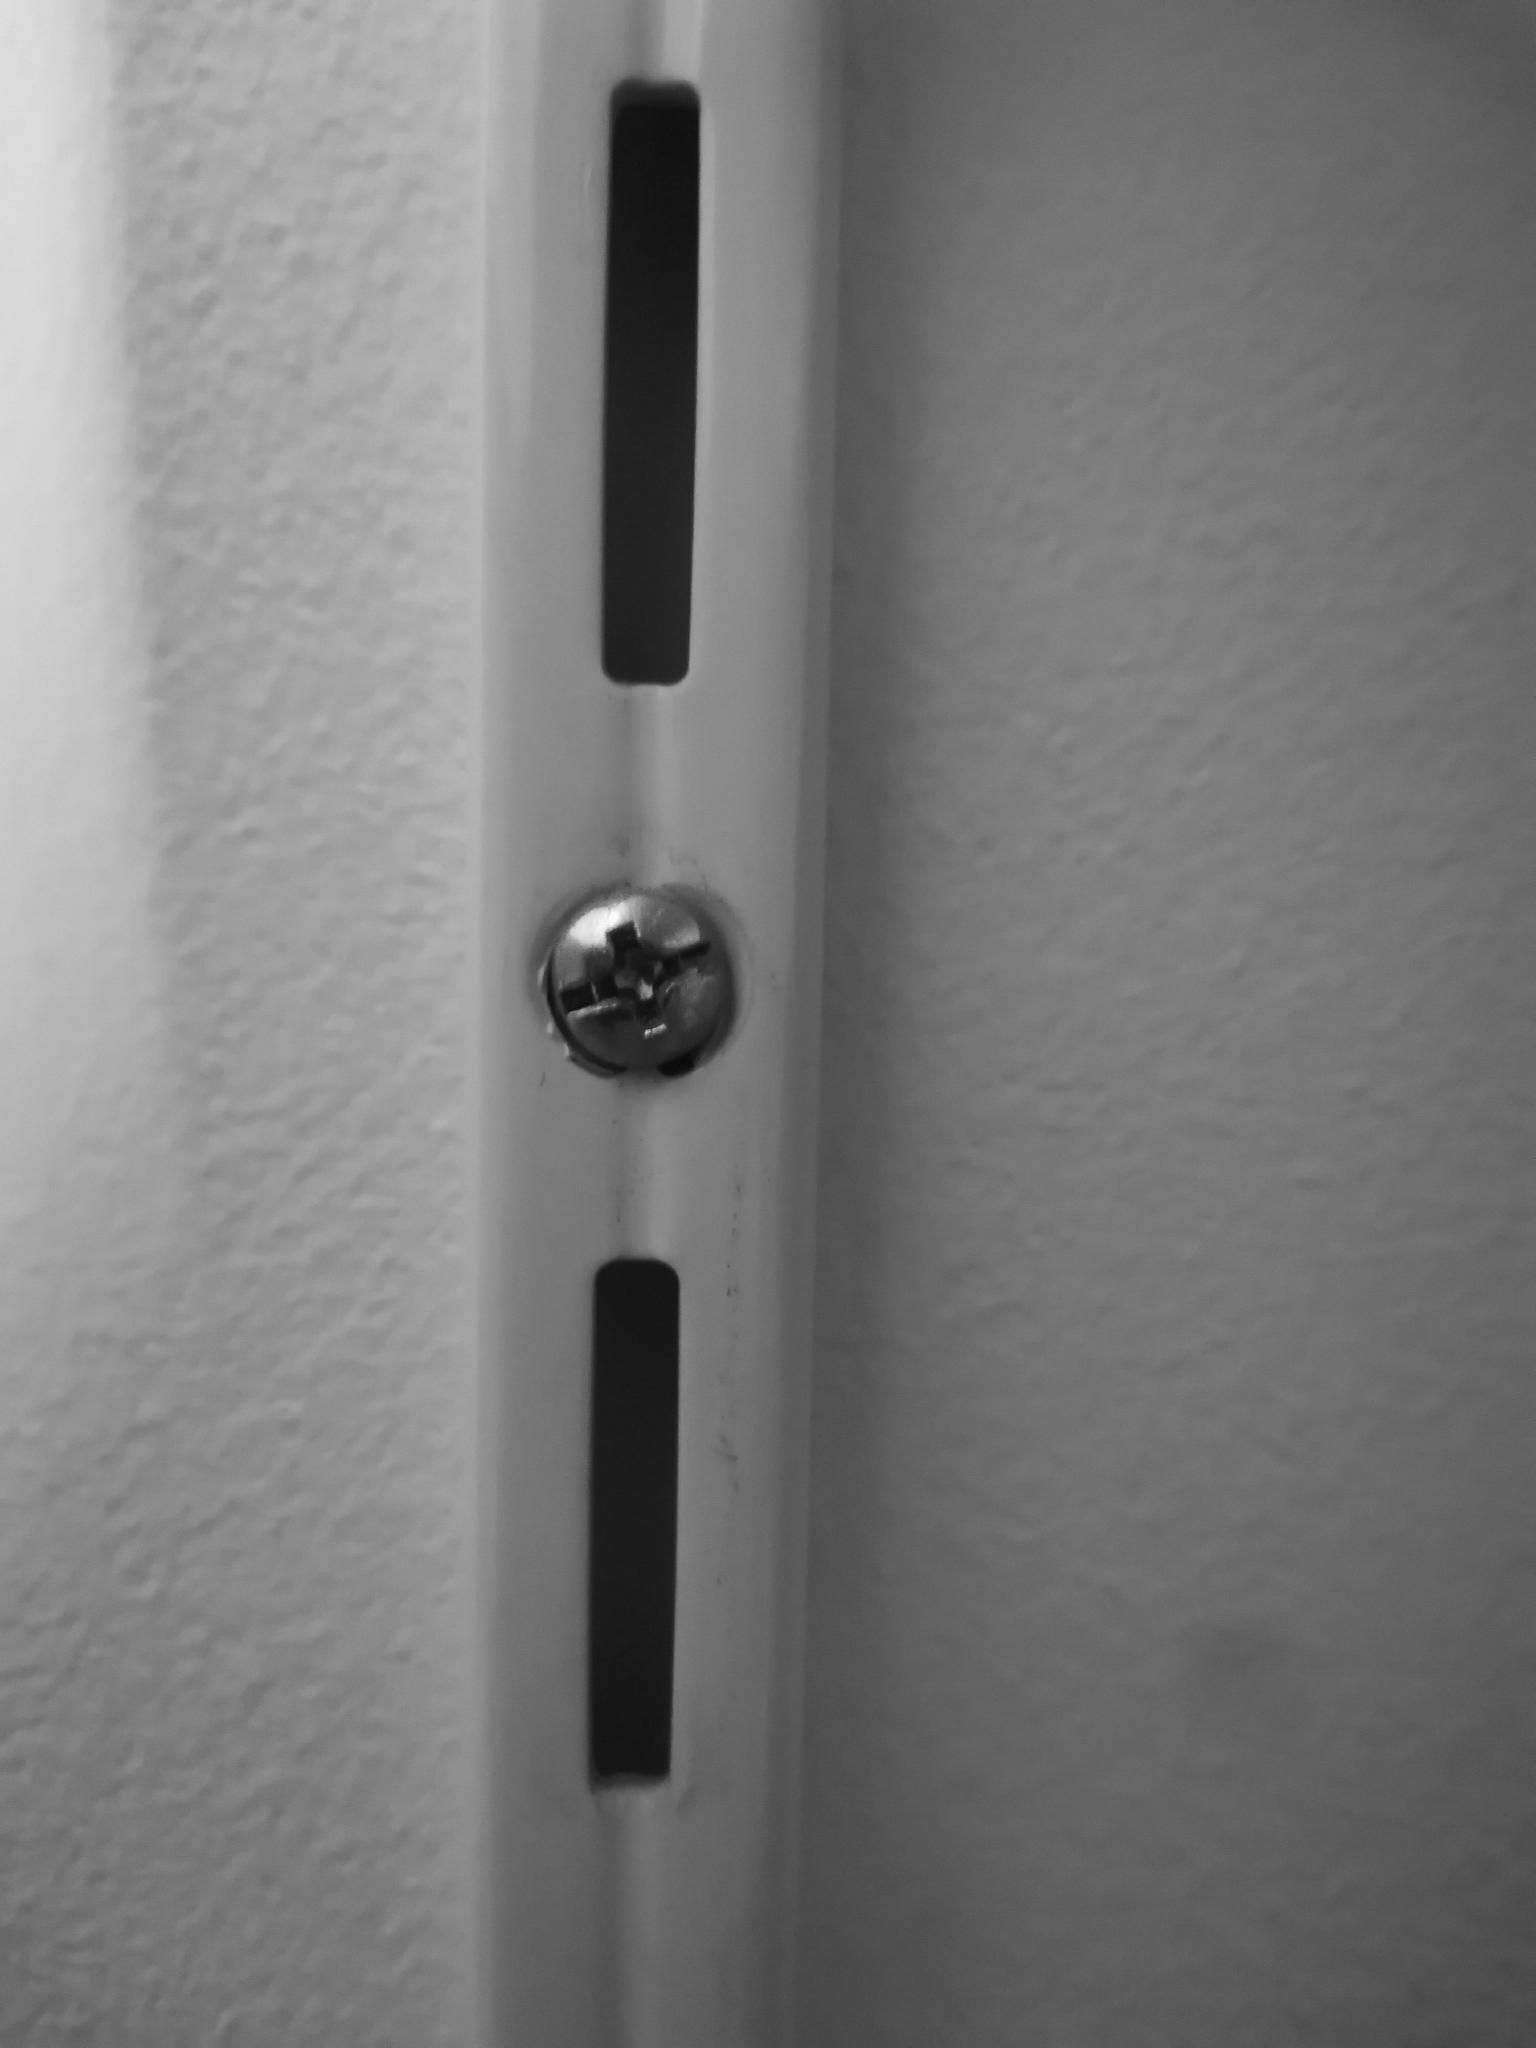screw: (529, 874, 747, 1087)
